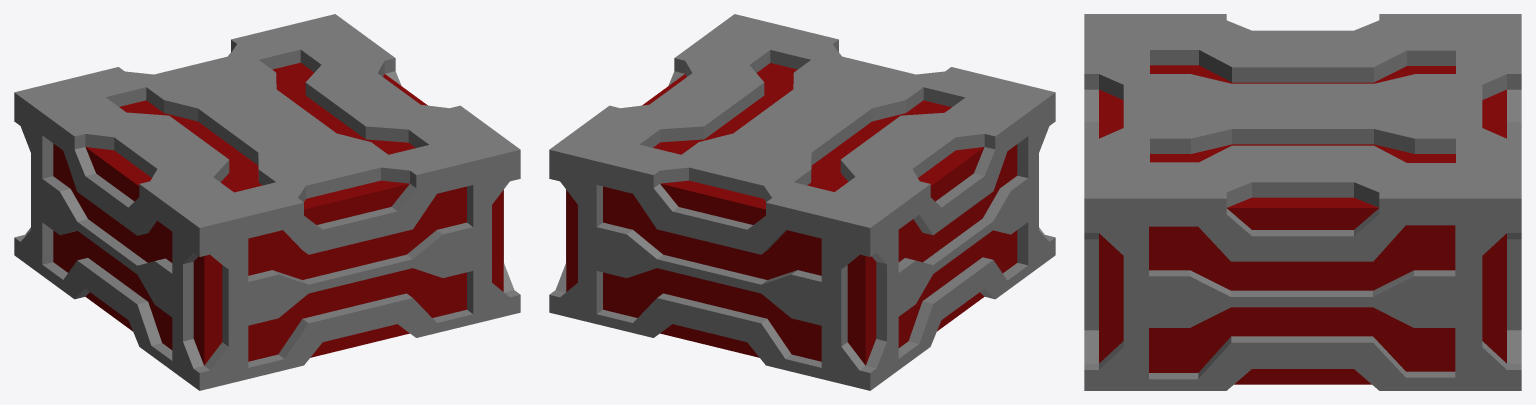
3 views of the same model, side by side, from view 1: azimuth 30°, elevation 25°; view 2: azimuth 150°, elevation 25°; view 3: azimuth 270°, elevation 25° (orthographic). The views are drawn at different scales.
Parts seen in each view (by area): view 1: group_0 (×18); view 2: group_0 (×18); view 3: group_0 (×15).
Part boxes in pixels (x1,y1,x2,y2): group_0 (×18): [14, 14, 520, 390]; group_0 (×18): [549, 14, 1055, 390]; group_0 (×15): [1084, 14, 1521, 390].
Bounding box in the file's own units: 33 × 33 × 16.
